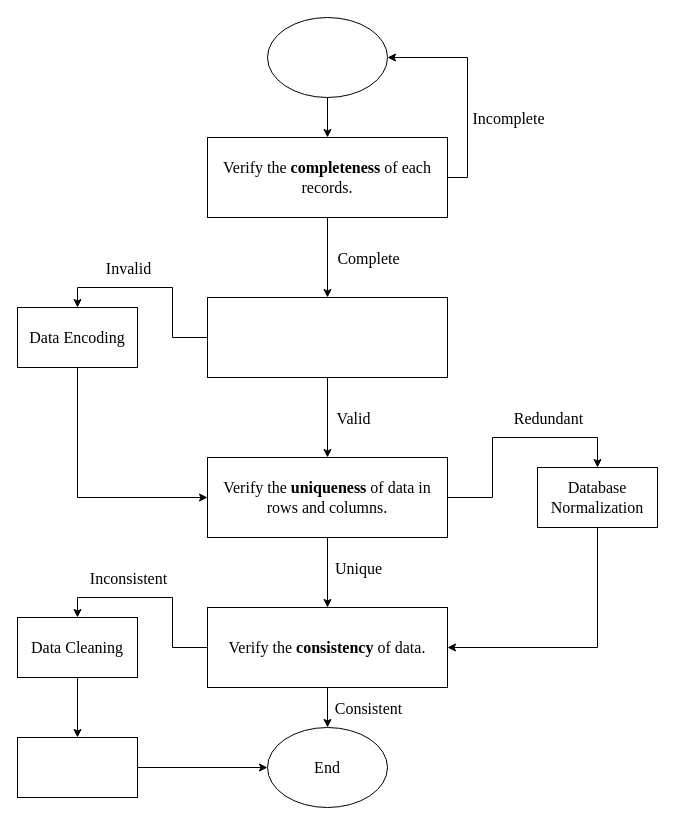
This 675x825 diagram has some shape labels left out. The centre of each missing label's shape, as x and y in pixels:
"Data Importation" belongs at point 77,767.
"Start" belongs at point 327,57.
"Verify the validity of data types in each columns." belongs at point 327,337.
